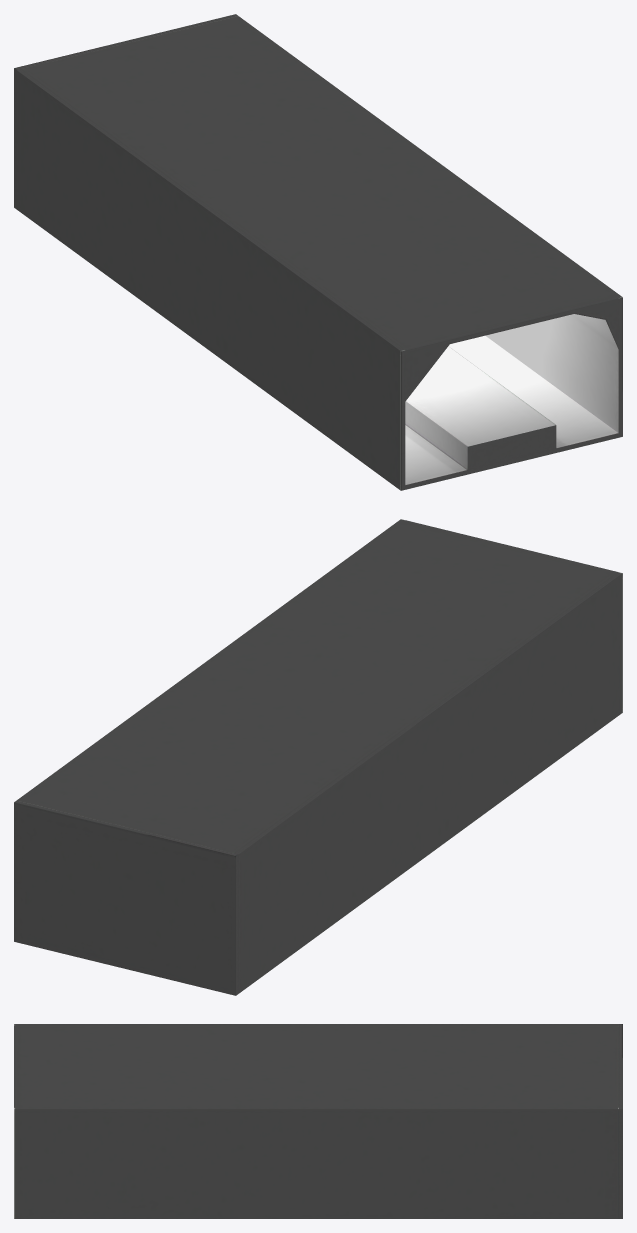
The model's file is RoomLight.gltf.
3 renders of one model, top to bottom at view 1: azimuth 30°, elevation 25°; view 2: azimuth 150°, elevation 25°; view 3: azimuth 270°, elevation 25°, orthographic. The views are drawn at different scales.
Parts seen in each view (by area): view 1: Space; view 2: Space; view 3: Space.
Boxes of the visible parts, x1,y1,x2,y2 form: Space: (14,14,622,490); Space: (14,519,622,995); Space: (14,1024,622,1218).
Size of the model in its own units: 50 by 30 by 151.
Materials: 1 (1 with a texture image).
